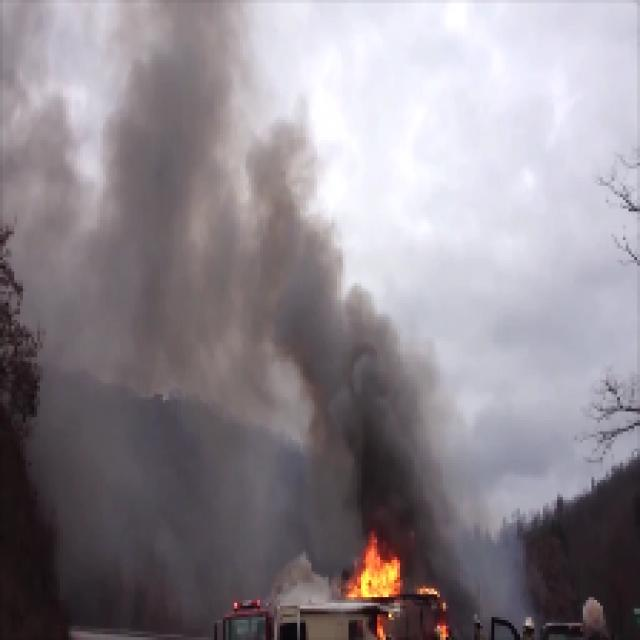fire: (348, 539, 402, 602)
smoke: (141, 203, 339, 356), (332, 334, 417, 522)
